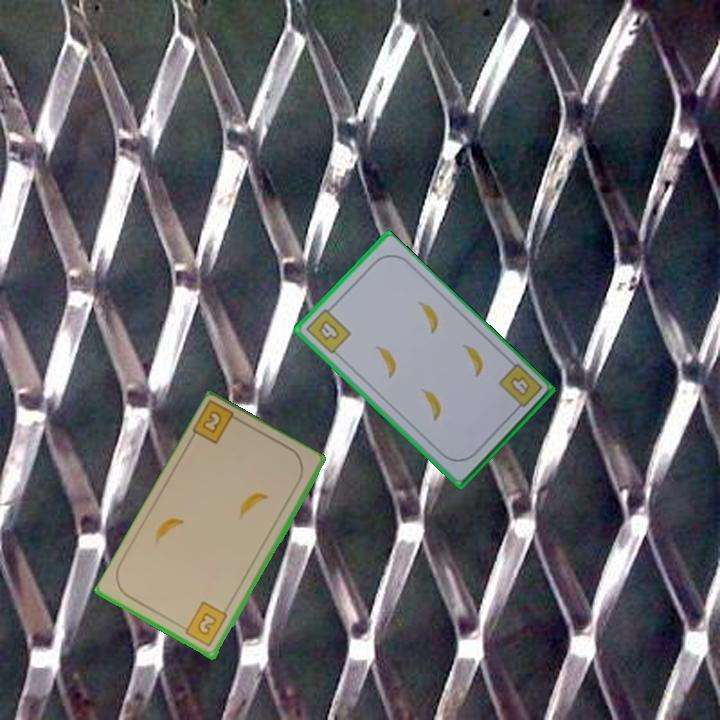2b: (177, 599, 231, 650), (189, 399, 246, 447)
4b: (302, 302, 354, 357), (495, 360, 545, 416)
